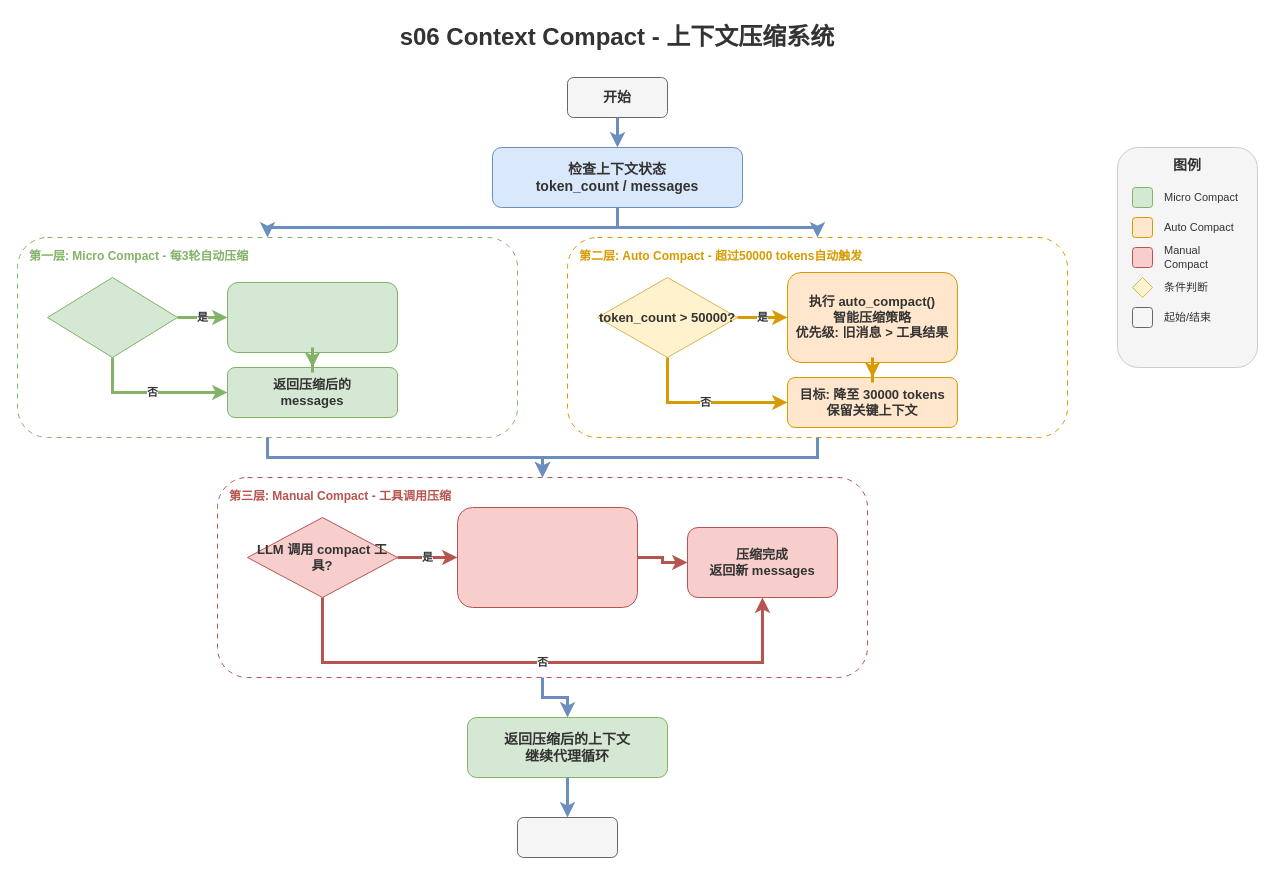
The diagram is 1275 pixels wide and 875 high, and some of its shapes have lost their labels. Here are the shapes that lost their labels. From the top down, the box of each, then its label:
(46, 276, 178, 358): 轮次计数 turn_count % 3 == 0?
(226, 282, 398, 352): 执行 micro_compact() 移除旧消息的详细内容 保留摘要
(456, 506, 638, 608): 执行 manual_compact() 按 LLM 指定策略压缩 - summary 类型 - selective 类型
(516, 816, 618, 858): 结束
